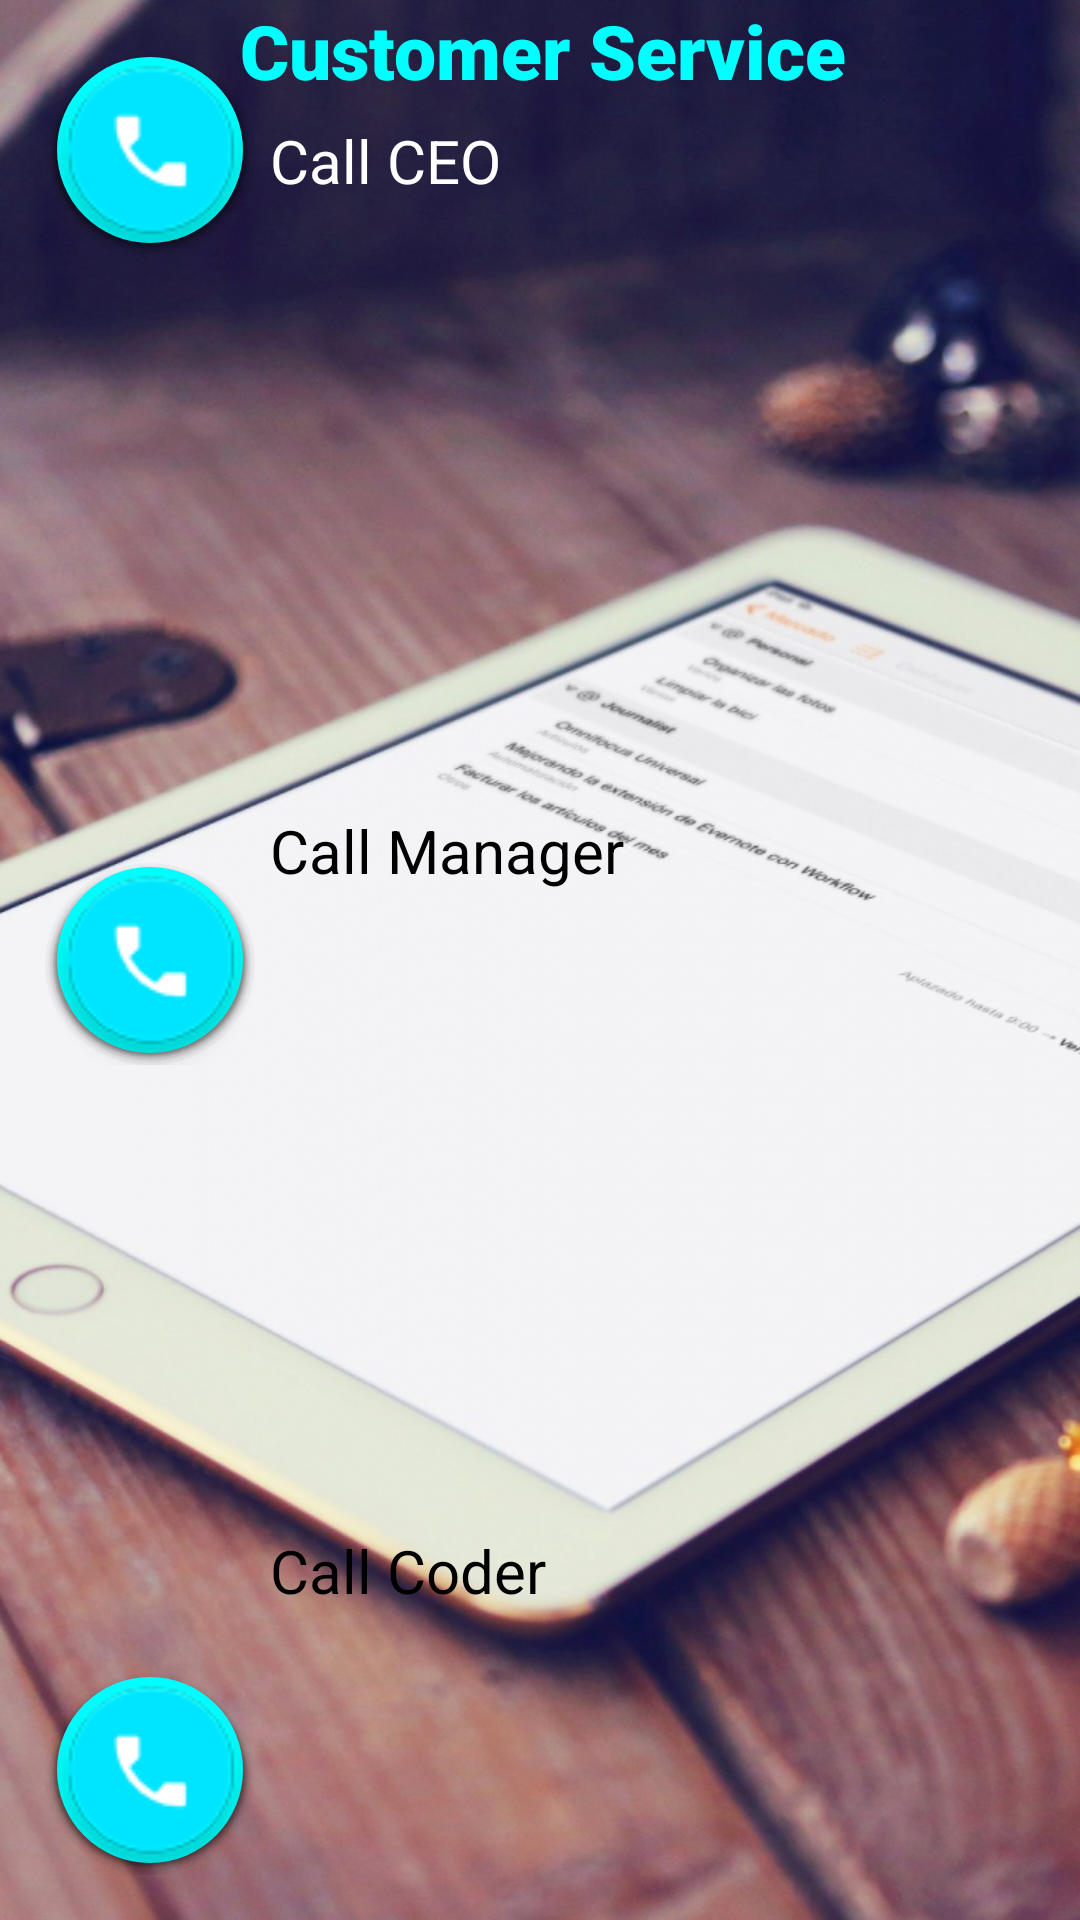

Screen size 1080 × 1920. Icon name, then its center in pixels as point (x, y):
phone: point (150, 151), point (150, 964), point (150, 1770)
